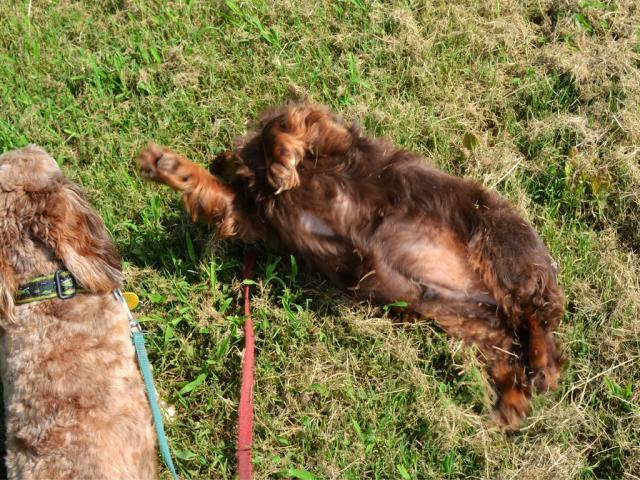Dog: (137, 83, 573, 435), (0, 140, 176, 480)
